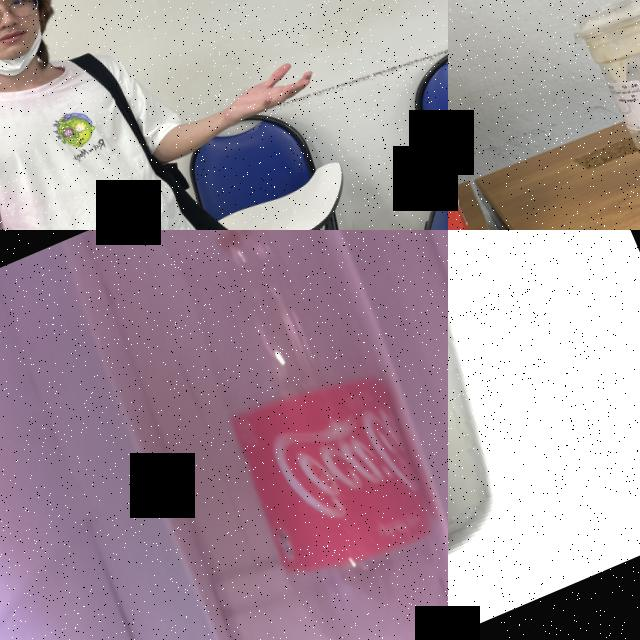bottle: (129, 230, 448, 640)
cup: (448, 230, 570, 616), (567, 0, 640, 198)
